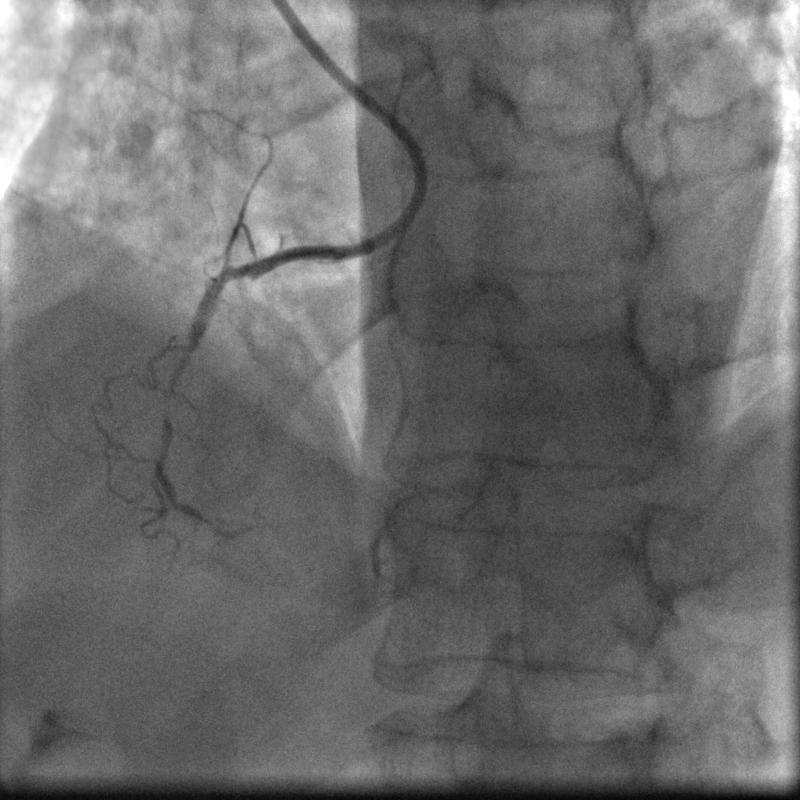Stenosis: (178, 320, 203, 383)
